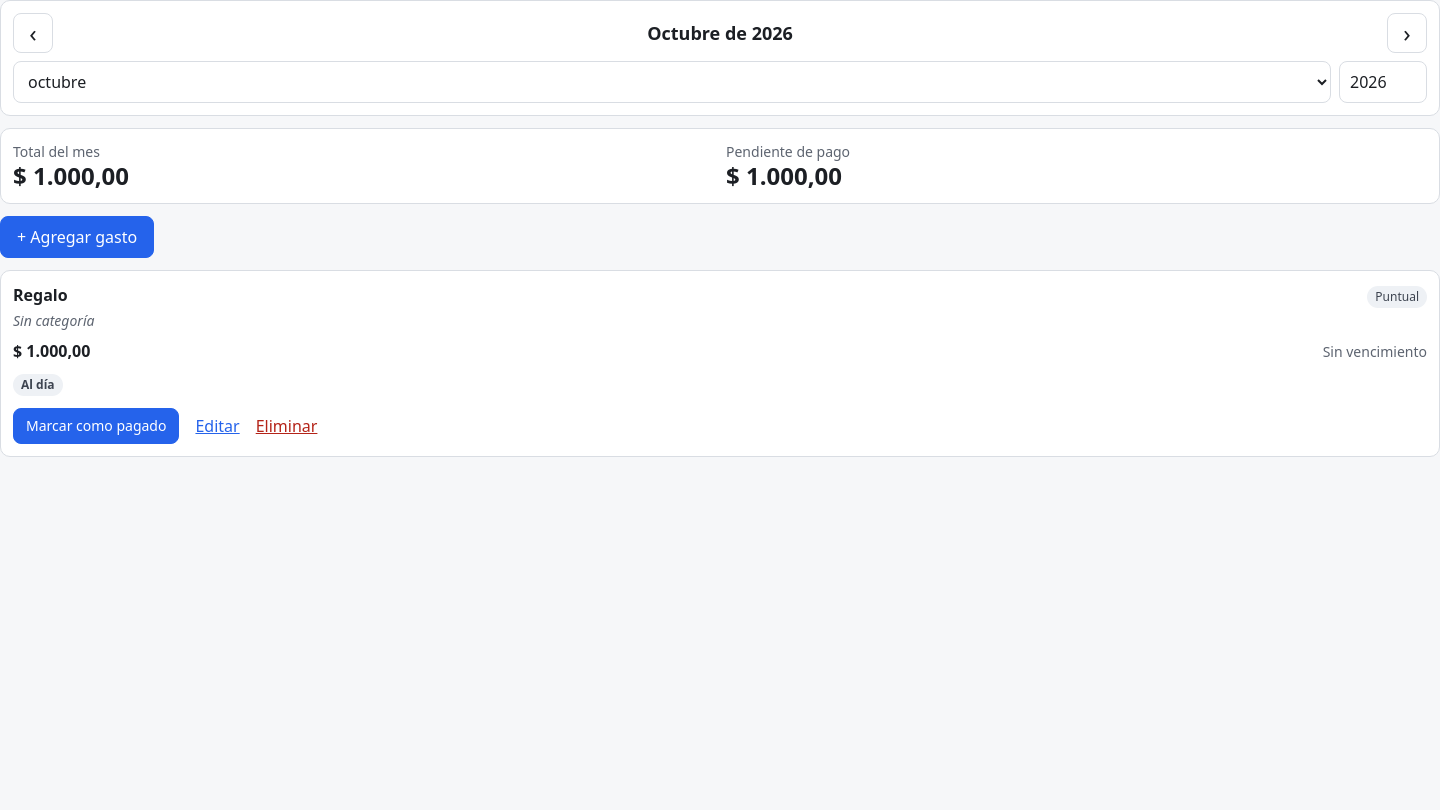
ExpensesPage › edita un gasto puntual y muestra los nuevos valores
Click the button with aria-label "Editar Regalo" at x=218, y=426, box [196,414,240,438]
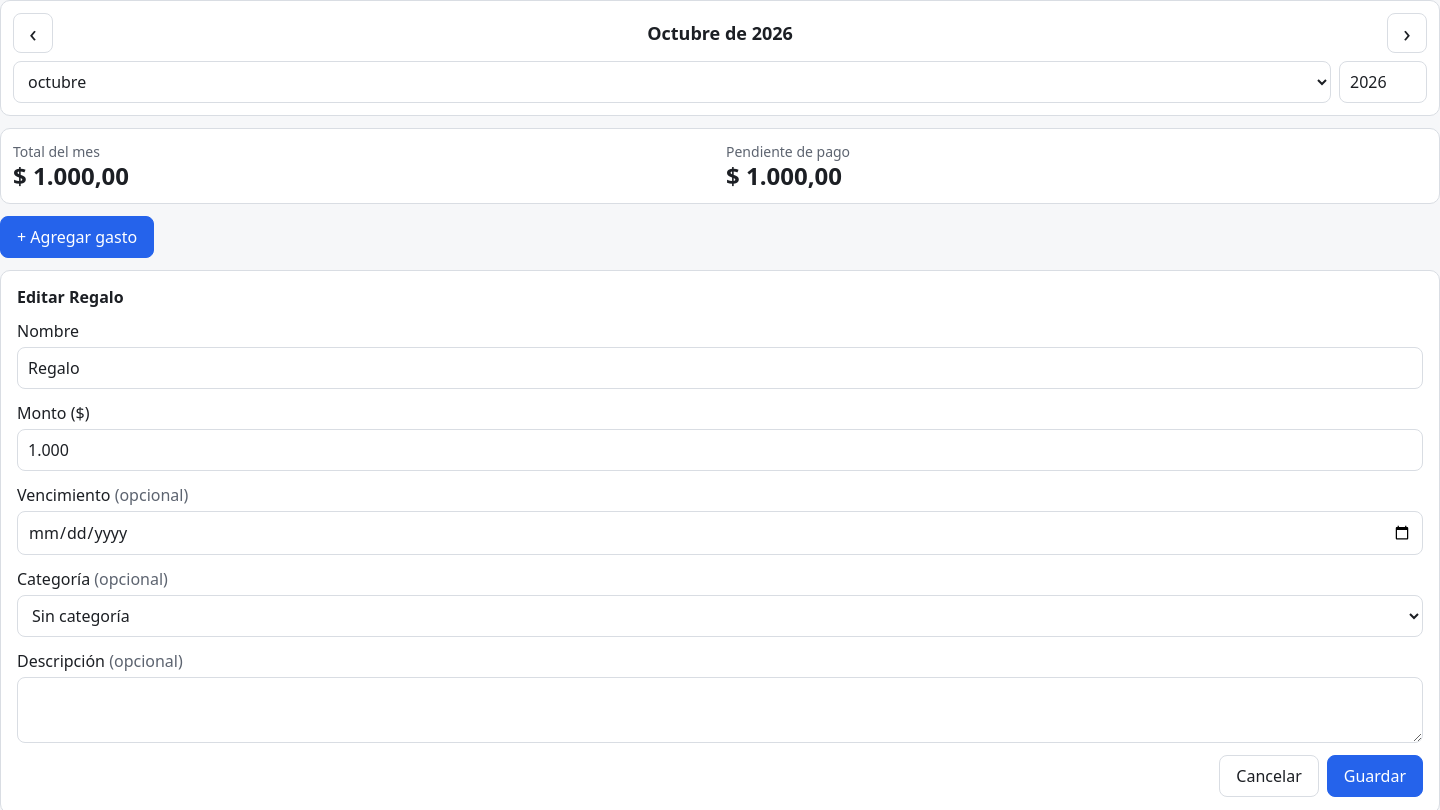
Replace the text in the field labelled "Nombre" with "Regalo de cumpleaños" at x=720, y=368, box [17,347,1423,389]
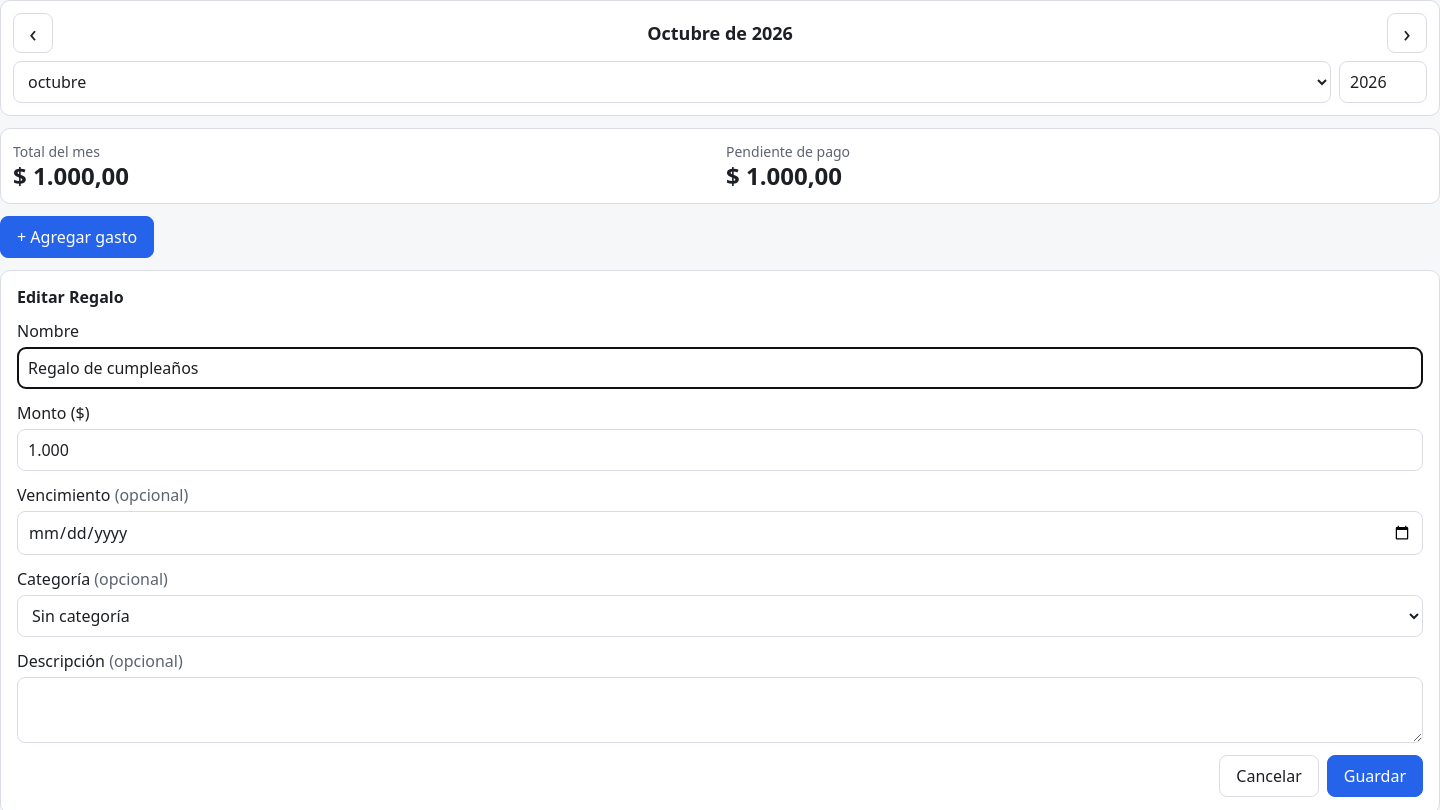
Click the button "Guardar" at x=1375, y=776, box [1327,755,1423,797]
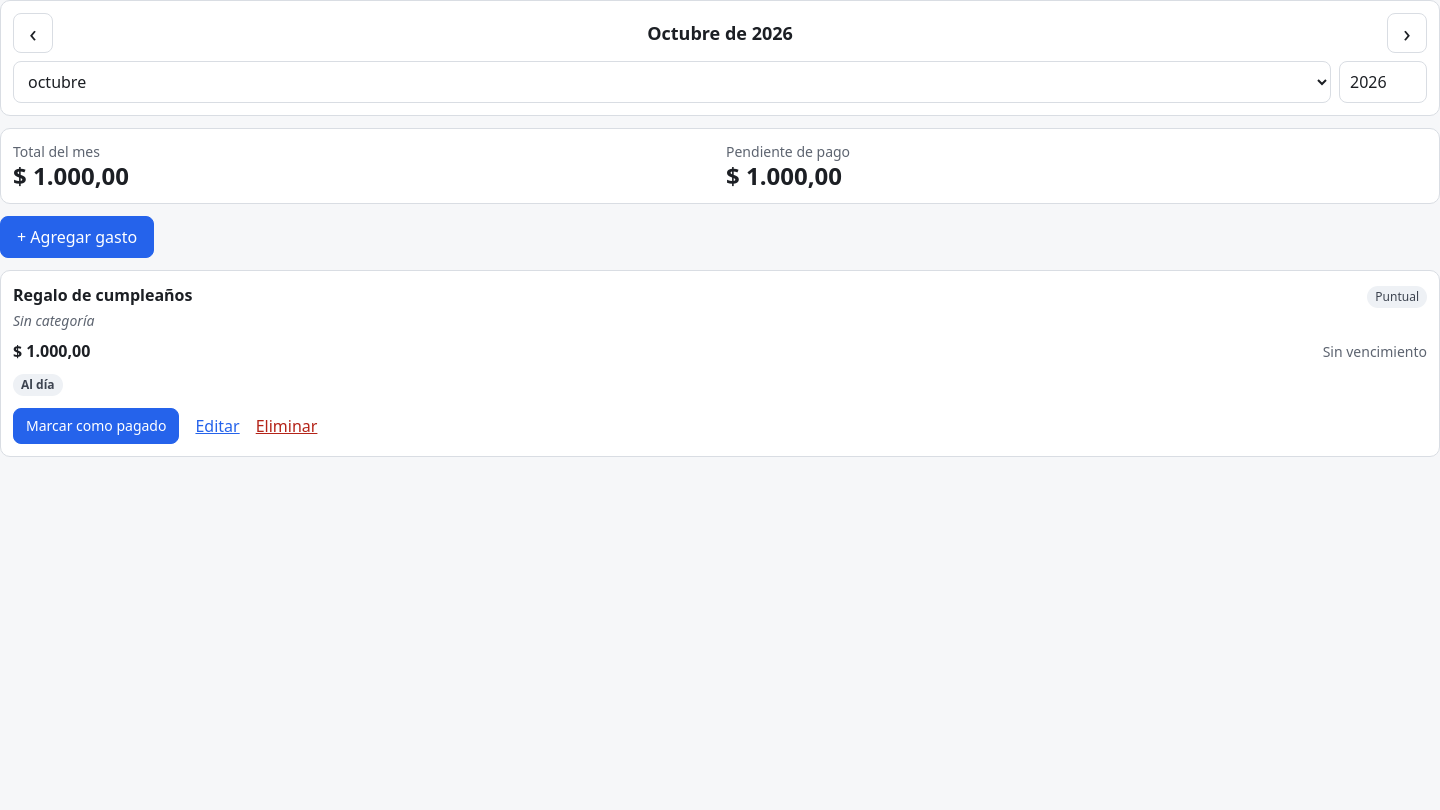
Result: the text "Regalo de cumpleaños" is shown at [13,283,192,307]
